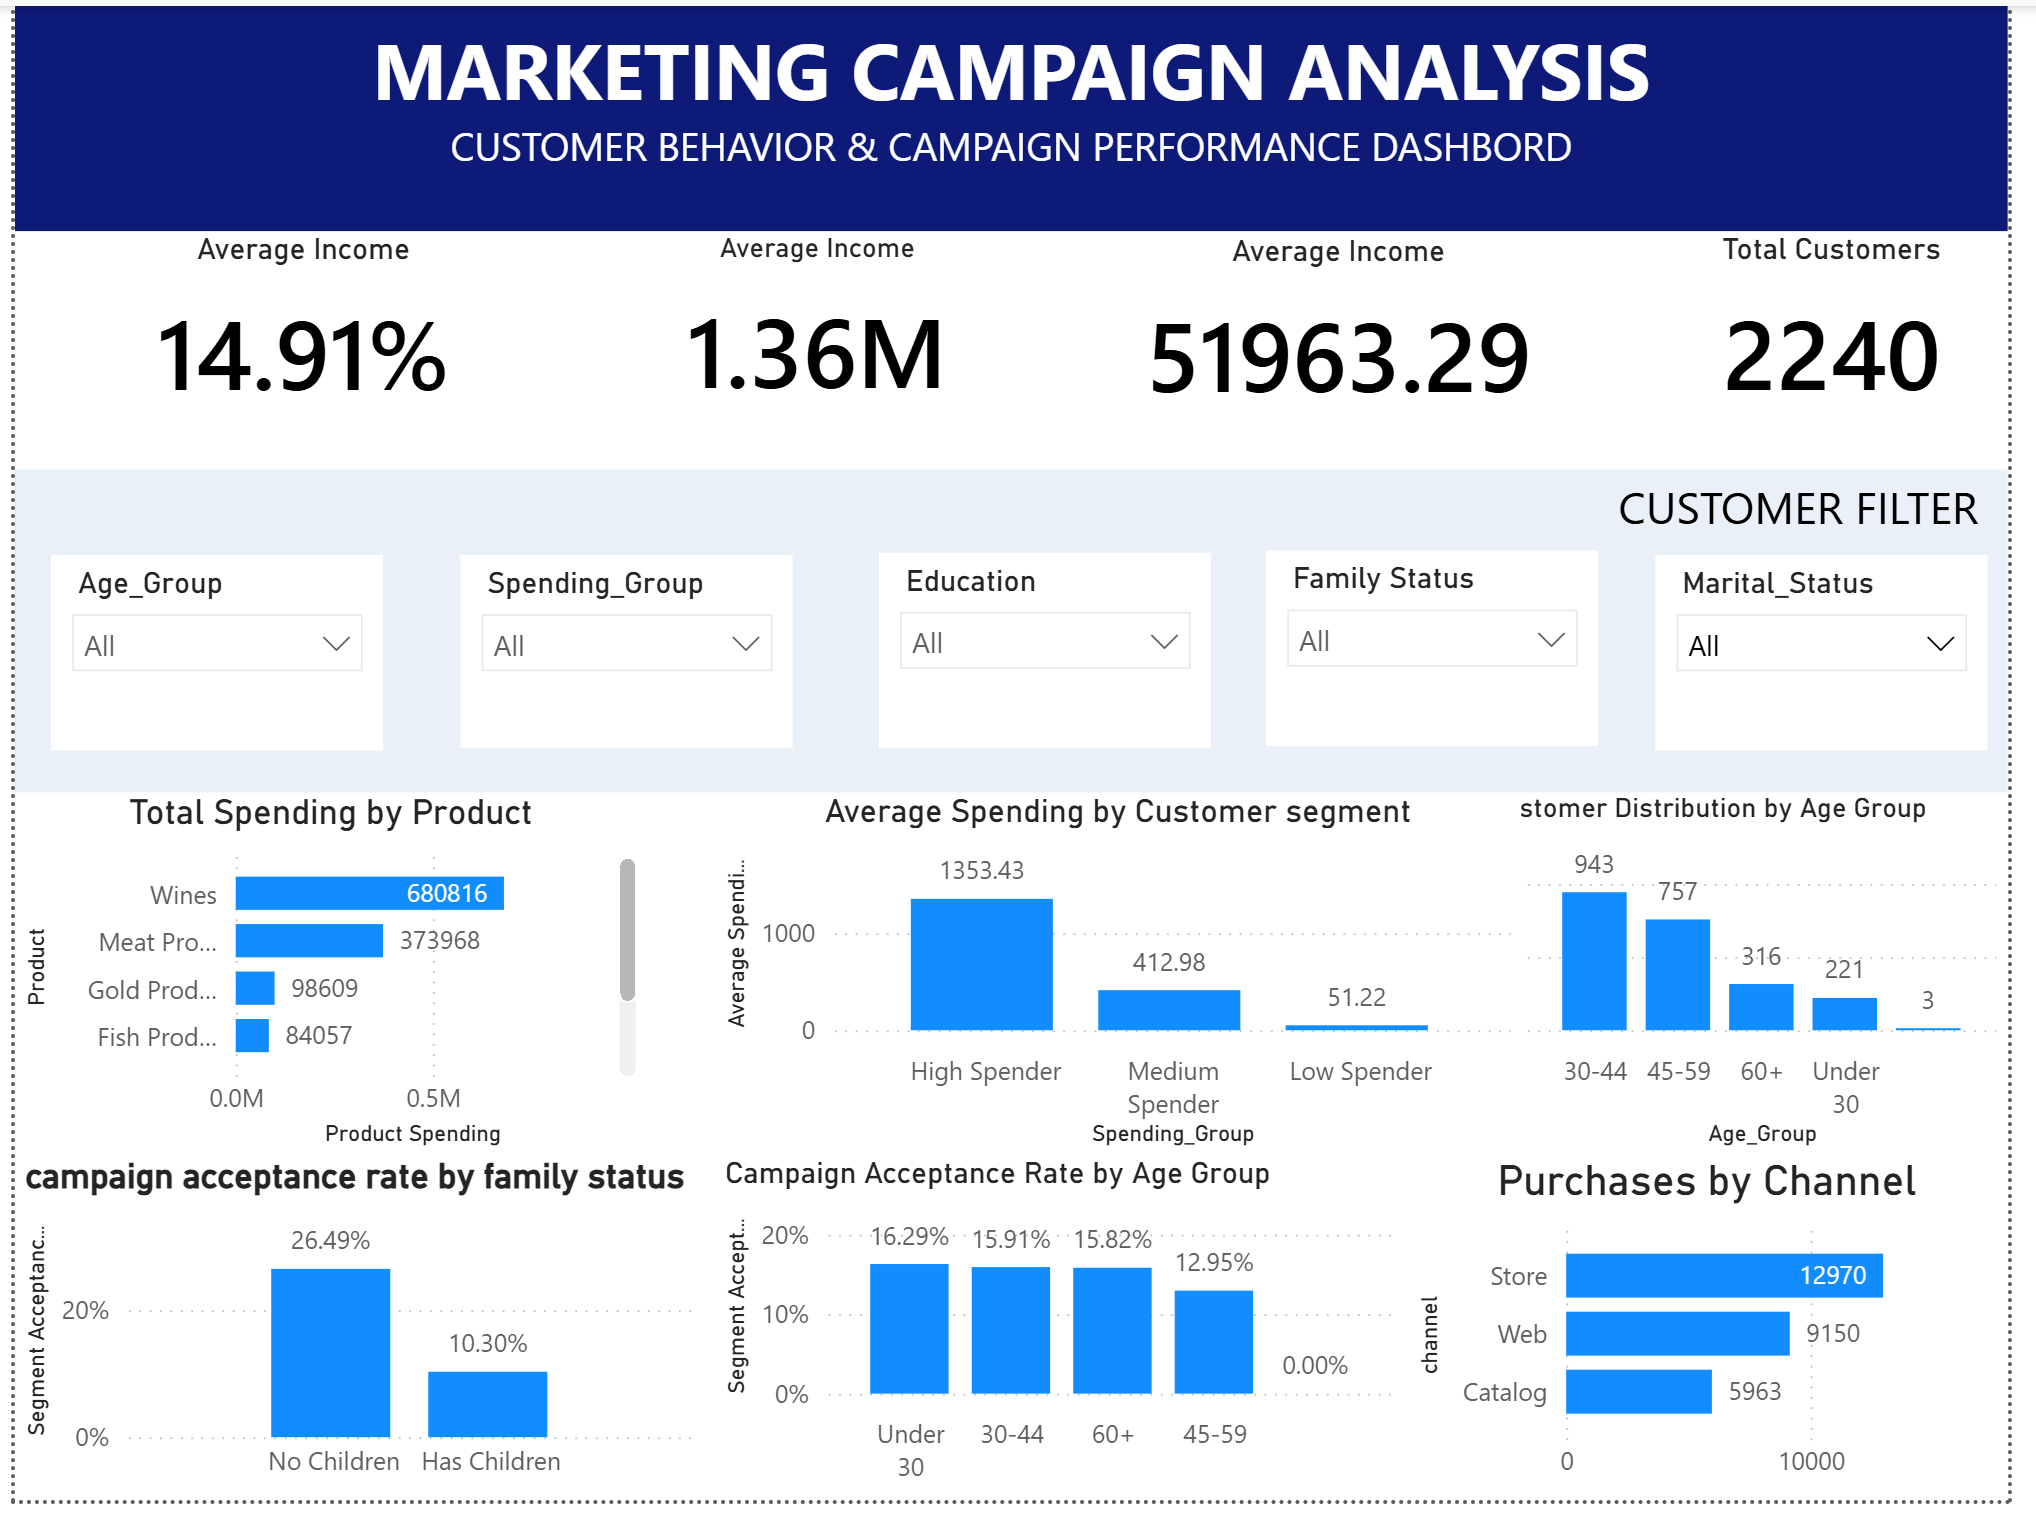

The dashboard page shown, as its layout file describes it:
{"tool":"powerbi","page":{"name":"Page 1","canvas":[960,720],"ordinal":0},"visuals":[{"type":"cardVisual","title":"Total Customers","fields":{"Data":["marketing_campaign_cleaned.Total Customers"]},"box":[790,108.6,170,95.7],"z":0},{"type":"shape","title":"CUSTOMER FILTER","box":[0,222.9,960,155.7],"z":0,"group":"g1"},{"type":"cardVisual","title":"Average Income","fields":{"Data":["marketing_campaign_cleaned.Average Income"]},"box":[512.9,110,250,95.7],"z":1000},{"type":"slicer","fields":{"Values":["marketing_campaign_cleaned.Age_Group"]},"box":[17.1,264.5,160,94.3],"z":1000,"group":"g1"},{"type":"cardVisual","title":"Average Income","fields":{"Data":["marketing_campaign_cleaned.Campaign Acceptance Rate"]},"box":[38.6,108.6,200,95.7],"z":2000},{"type":"slicer","fields":{"Values":["marketing_campaign_cleaned.Spending_Group"]},"box":[214.3,264.5,160,92.9],"z":2000,"group":"g1"},{"type":"cardVisual","title":"Average Income","fields":{"Data":["marketing_campaign_cleaned.Total Spending"]},"box":[294.3,108.6,185.7,95.7],"z":3000},{"type":"slicer","fields":{"Values":["marketing_campaign_cleaned.Education"]},"box":[415.7,263.5,160,94.3],"z":3000,"group":"g1"},{"type":"slicer","fields":{"Values":["marketing_campaign_cleaned.Family Status"]},"box":[602.9,261.7,160,94.3],"z":4000,"group":"g1"},{"type":"clusteredColumnChart","title":"Customer Distribution by Age Group","fields":{"Category":["marketing_campaign_cleaned.Age_Group"],"Y":["marketing_campaign_cleaned.Total Customers"]},"box":[671.4,378.6,288.6,175.7],"z":4000},{"type":"slicer","fields":{"Values":["marketing_campaign_cleaned.Marital_Status"]},"box":[790,264.5,160,94.3],"z":5000,"group":"g1"},{"type":"clusteredColumnChart","title":"Average Spending by Customer segment","fields":{"Category":["marketing_campaign_cleaned.Spending_Group"],"Y":["marketing_campaign_cleaned.Average Spending"]},"box":[337.1,378.6,388.6,175.7],"z":5000},{"type":"clusteredBarChart","title":"Total Spending by Product","fields":{"Category":["Product Categories.Product"],"Y":["marketing_campaign_cleaned.Product Spending"]},"box":[0,378.6,304.3,175.7],"z":6000},{"type":"clusteredBarChart","title":"Purchases by Channel","fields":{"Category":["Purchase Channels.channel"],"Y":["marketing_campaign_cleaned.Channel Purchases"]},"box":[671.4,554.3,288.6,165.7],"z":7000},{"type":"clusteredColumnChart","title":"Campaign Acceptance Rate by Age Group","fields":{"Category":["marketing_campaign_cleaned.Age_Group"],"Y":["marketing_campaign_cleaned.Segment Acceptance Rate"]},"box":[337.1,554.3,334.3,165.7],"z":8000},{"type":"clusteredColumnChart","title":"campaign acceptance rate by family status","fields":{"Category":["marketing_campaign_cleaned.Family Status"],"Y":["marketing_campaign_cleaned.Segment Acceptance Rate"]},"box":[0,554.3,332.9,165.7],"z":9000},{"type":"textbox","box":[0,0,960,108.6],"z":10000},{"type":"group","id":"g1","title":"Group 1","box":[0,222.9,960,155.7],"z":12500}]}

Visuals, with their boxes in screenshot pixels (x1, y1, x2, y2), scaled from the page's 960x720 canvas onto the 2036x1517 screenshot:
"Total Customers" cardVisual: [1675, 229, 2035, 430]
"CUSTOMER FILTER" shape: [0, 470, 2035, 798]
"Average Income" cardVisual: [1088, 232, 1618, 433]
slicer - marketing_campaign_cleaned.Age_Group: [36, 557, 376, 756]
"Average Income" cardVisual: [82, 229, 506, 430]
slicer - marketing_campaign_cleaned.Spending_Group: [454, 557, 794, 753]
"Average Income" cardVisual: [624, 229, 1018, 430]
slicer - marketing_campaign_cleaned.Education: [882, 555, 1221, 754]
slicer - marketing_campaign_cleaned.Family Status: [1279, 551, 1618, 750]
"Customer Distribution by Age Group" clusteredColumnChart: [1424, 798, 2035, 1168]
slicer - marketing_campaign_cleaned.Marital_Status: [1675, 557, 2015, 756]
"Average Spending by Customer segment" clusteredColumnChart: [715, 798, 1539, 1168]
"Total Spending by Product" clusteredBarChart: [0, 798, 645, 1168]
"Purchases by Channel" clusteredBarChart: [1424, 1168, 2035, 1516]
"Campaign Acceptance Rate by Age Group" clusteredColumnChart: [715, 1168, 1424, 1516]
"campaign acceptance rate by family status" clusteredColumnChart: [0, 1168, 706, 1516]
textbox: [0, 0, 2035, 229]
"Group 1" group: [0, 470, 2035, 798]
